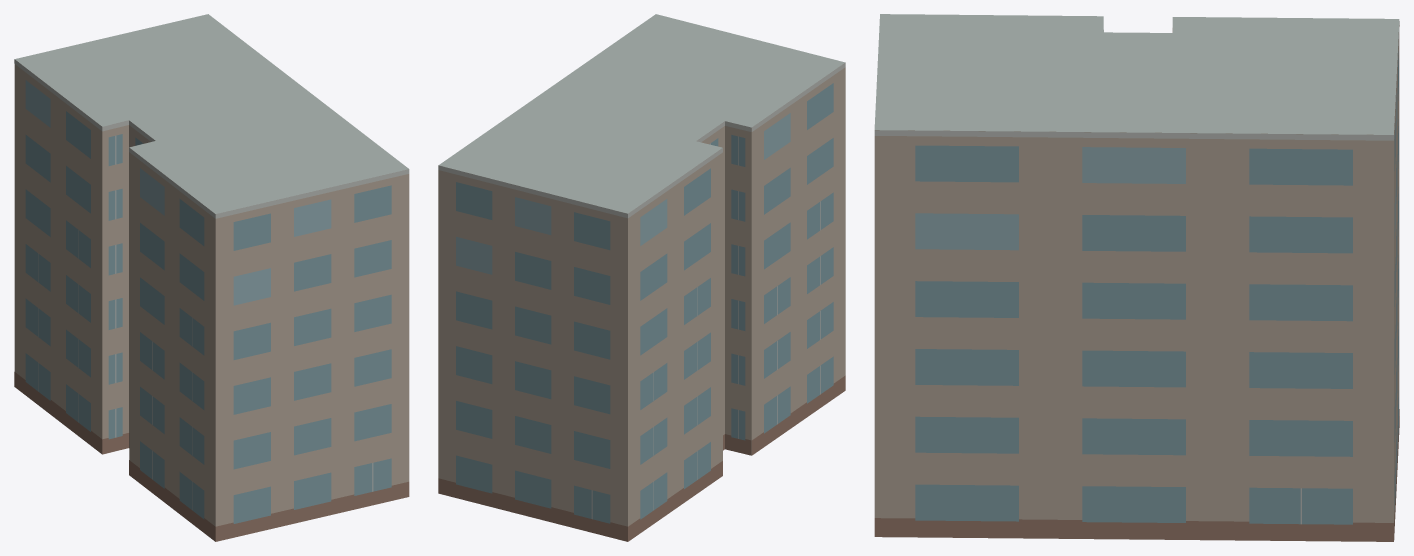
The model's file is survey-upis-32724933.glb.
3 renders of one model, left to right at view 1: azimuth 30°, elevation 25°; view 2: azimuth 150°, elevation 25°; view 3: azimuth 270°, elevation 25°, orthographic. The views are drawn at different scales.
Parts seen in each view (by area): view 1: survey-upis-32724933.tmp; view 2: survey-upis-32724933.tmp; view 3: survey-upis-32724933.tmp.
Boxes of the visible parts, x1=… form: survey-upis-32724933.tmp: x1=14, y1=14, x2=409, y2=541; survey-upis-32724933.tmp: x1=438, y1=14, x2=845, y2=541; survey-upis-32724933.tmp: x1=874, y1=14, x2=1399, y2=541.
Bounding box in the file's own units: 10.98 × 17.2 × 20.12.
